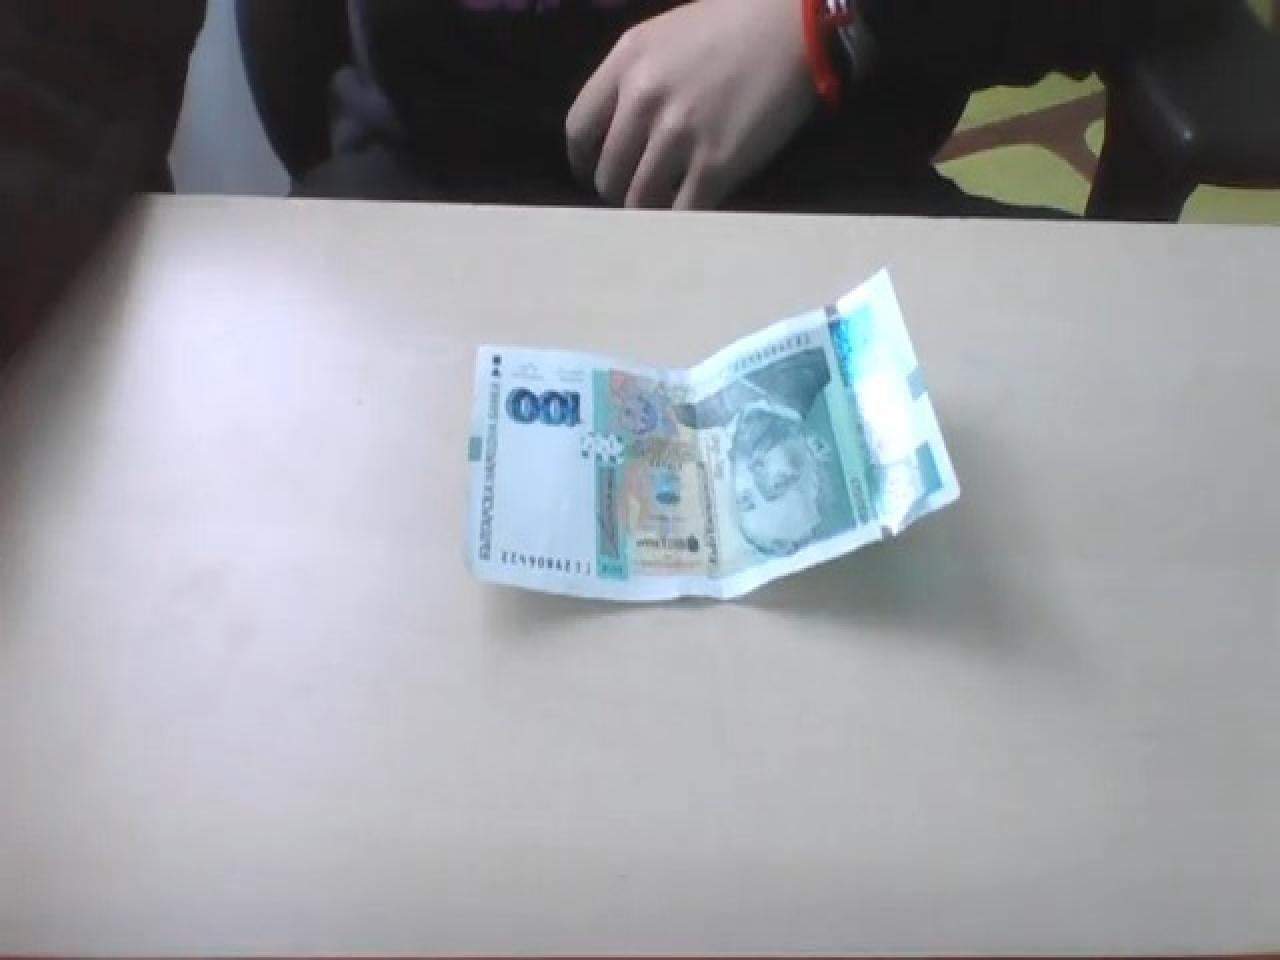100leva: (462, 264, 959, 603), (504, 384, 582, 427)
